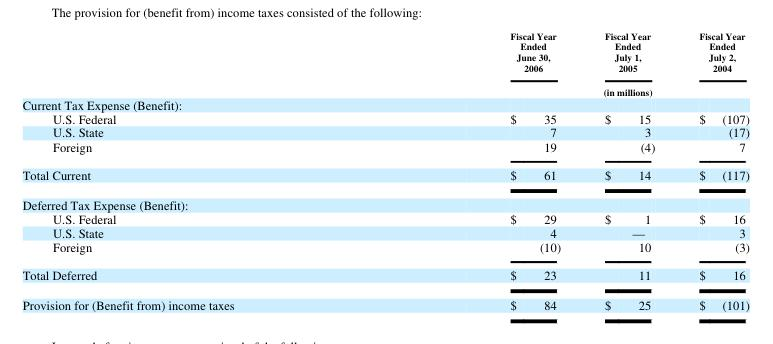table: (21, 29, 748, 312)
table column: (21, 29, 371, 312), (371, 29, 582, 312), (582, 29, 676, 312), (676, 29, 748, 312)
table column header: (21, 29, 748, 96)
table projected row header: (21, 188, 748, 210), (21, 96, 748, 110)
table row: (21, 29, 748, 79), (21, 259, 748, 289), (21, 159, 748, 188), (21, 289, 748, 312), (21, 188, 748, 210), (21, 138, 748, 159), (21, 238, 748, 259), (21, 79, 748, 96), (21, 96, 748, 110), (21, 110, 748, 124), (21, 124, 748, 138), (21, 210, 748, 224), (21, 224, 748, 238)
table spanning cell: (371, 79, 748, 96)
